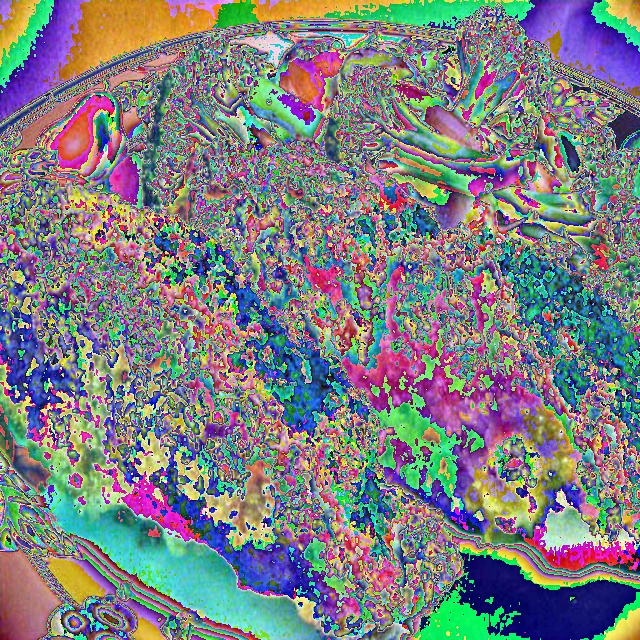background: (0, 2, 640, 639)
